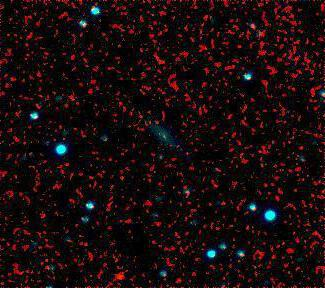star: (104, 259, 134, 288)
